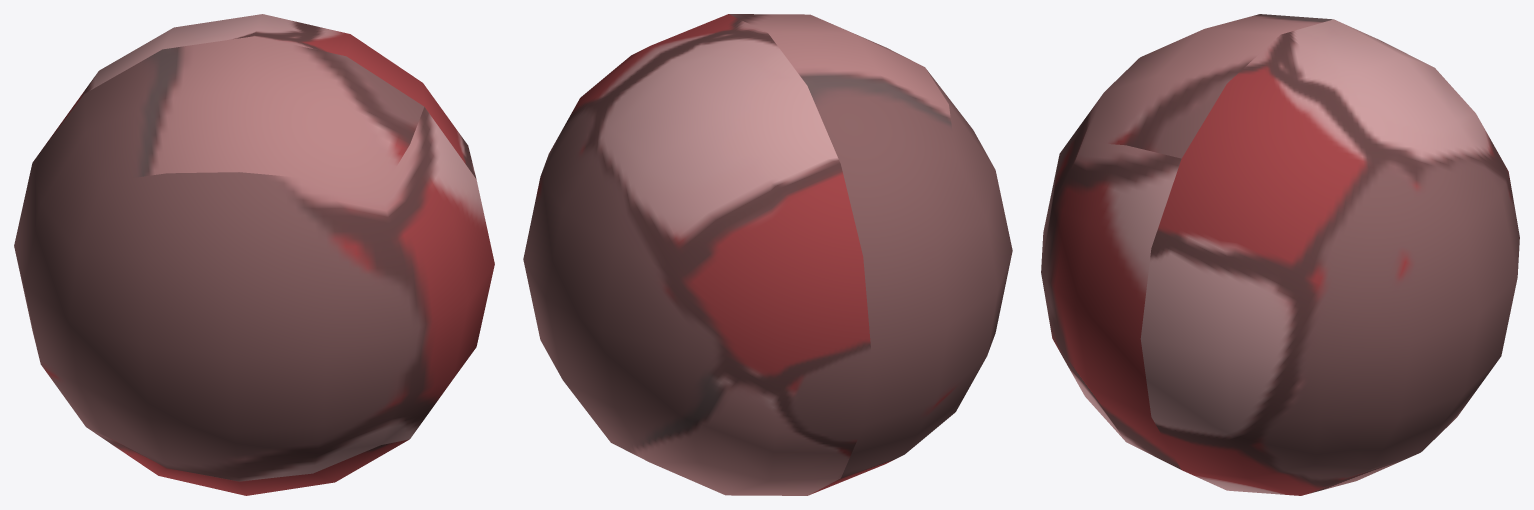
Rendered from BolaDeBasquete.fbx.
3 views of the same model, side by side, from view 1: azimuth 30°, elevation 25°; view 2: azimuth 150°, elevation 25°; view 3: azimuth 270°, elevation 25° (orthographic).
Parts seen in each view (by area): view 1: BolaDeBasquete; view 2: BolaDeBasquete; view 3: BolaDeBasquete.
Boxes of the visible parts, box(x1,y1,x2,y2) form: BolaDeBasquete: box(14, 14, 494, 495); BolaDeBasquete: box(523, 14, 1012, 495); BolaDeBasquete: box(1041, 14, 1519, 495).
Size of the model in its own units: 69.47 by 69.47 by 70.52.
